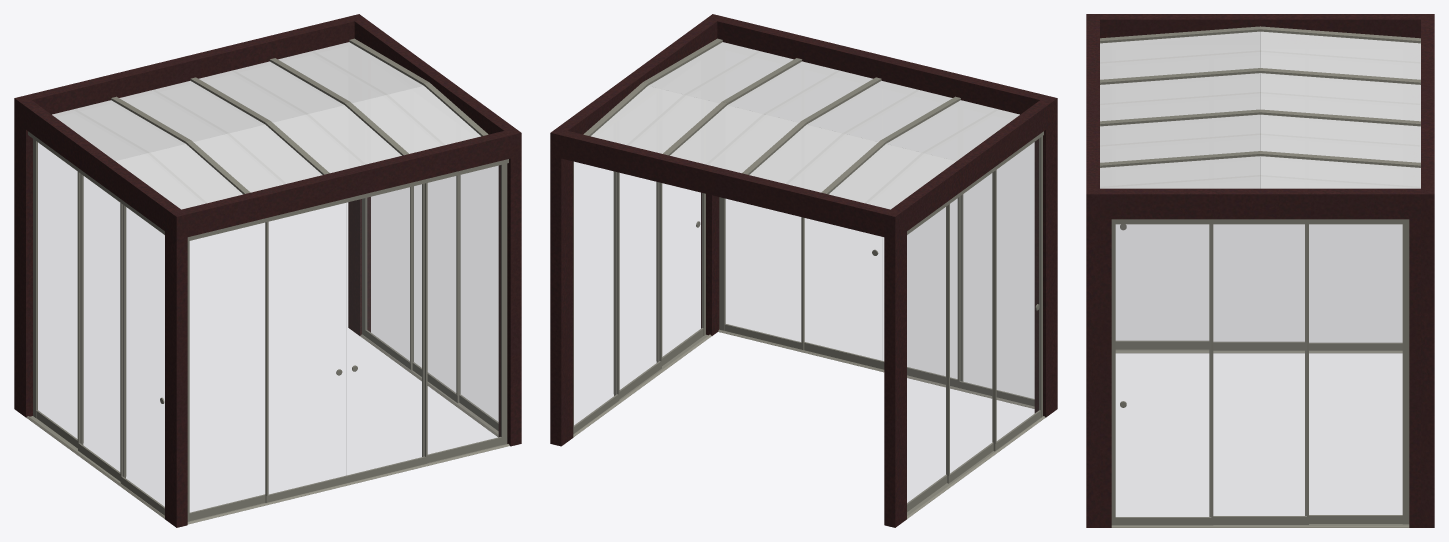
File: agp_h27-w30-d24_rustycopper.fbx
The picture shows the model from 3 angles, left to right: view 1: azimuth 30°, elevation 25°; view 2: azimuth 150°, elevation 25°; view 3: azimuth 270°, elevation 25°; orthographic projection. The views are drawn at different scales.
Visible parts, largest first — view 1: agp_h27-w30-d24_darkpine.009; view 2: agp_h27-w30-d24_darkpine.009; view 3: agp_h27-w30-d24_darkpine.009.
Boxes of the visible parts, x1,y1,x2,y2 form: agp_h27-w30-d24_darkpine.009: [14, 14, 521, 527]; agp_h27-w30-d24_darkpine.009: [550, 14, 1057, 527]; agp_h27-w30-d24_darkpine.009: [1086, 14, 1434, 527].
Bounding box in the file's own units: 313 × 270 × 255.
Materials: 4 (2 with a texture image).
